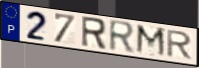2: (24, 9, 49, 43)
7: (53, 12, 77, 45)
M: (134, 23, 168, 60)
R: (108, 18, 137, 55), (80, 16, 108, 52), (165, 29, 195, 61)
